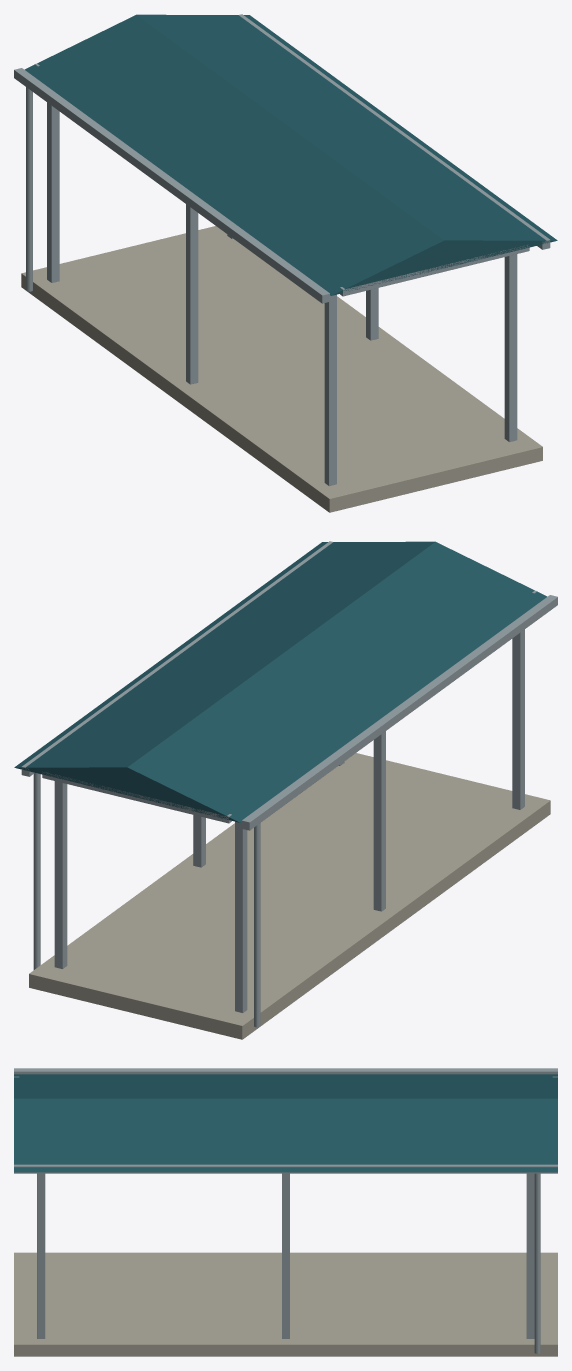
Rendered from source-edit.glb.
3 views of the same model, one above another, from view 1: azimuth 30°, elevation 25°; view 2: azimuth 150°, elevation 25°; view 3: azimuth 270°, elevation 25° (orthographic). The views are drawn at different scales.
Parts seen in each view (by area): view 1: Continuous_Roof, Walkway_Slab, Gutter, Structural_Post.003, Structural_Post, Structural_Post.002, Structural_Post.001, Downpipe, Gutter.001, End_Connector, Structural_Post.004; view 2: Continuous_Roof, Walkway_Slab, Gutter, Structural_Post.005, Structural_Post.002, Structural_Post, Structural_Post.001, Downpipe.001, Downpipe, Gutter.001, End_Connector.001, Structural_Post.004; view 3: Walkway_Slab, Continuous_Roof, Gutter, Gutter.001, Structural_Post.003, Structural_Post.005, Structural_Post.004, Downpipe.001.
Part boxes in pixels (x1=…): Continuous_Roof: x1=24, y1=14, x2=557, y2=295; Walkway_Slab: x1=21, y1=226, x2=542, y2=512; Gutter: x1=14, y1=68, x2=329, y2=303; Structural_Post.003: x1=504, y1=254, x2=517, y2=441; Structural_Post: x1=324, y1=294, x2=336, y2=485; Structural_Post.002: x1=47, y1=102, x2=59, y2=282; Structural_Post.001: x1=186, y1=204, x2=198, y2=384; Downpipe: x1=26, y1=87, x2=32, y2=291; Gutter.001: x1=239, y1=14, x2=550, y2=249; End_Connector: x1=340, y1=245, x2=529, y2=296; Structural_Post.004: x1=366, y1=288, x2=378, y2=340; Continuous_Roof: x1=14, y1=541, x2=547, y2=822; Walkway_Slab: x1=29, y1=753, x2=550, y2=1039; Gutter: x1=242, y1=595, x2=557, y2=830; Structural_Post.005: x1=54, y1=781, x2=67, y2=968; Structural_Post.002: x1=235, y1=821, x2=247, y2=1012; Structural_Post: x1=512, y1=629, x2=524, y2=809; Structural_Post.001: x1=373, y1=731, x2=385, y2=911; Downpipe.001: x1=33, y1=773, x2=40, y2=969; Downpipe: x1=254, y1=823, x2=260, y2=1027; Gutter.001: x1=21, y1=541, x2=332, y2=776; End_Connector.001: x1=42, y1=772, x2=231, y2=823; Structural_Post.004: x1=193, y1=815, x2=205, y2=867; Walkway_Slab: x1=14, y1=1252, x2=557, y2=1356; Continuous_Roof: x1=14, y1=1074, x2=557, y2=1172; Gutter: x1=14, y1=1068, x2=557, y2=1074; Gutter.001: x1=14, y1=1164, x2=557, y2=1173; Structural_Post.003: x1=37, y1=1173, x2=45, y2=1338; Structural_Post.005: x1=526, y1=1173, x2=534, y2=1338; Structural_Post.004: x1=282, y1=1173, x2=289, y2=1338; Downpipe.001: x1=534, y1=1173, x2=540, y2=1353.
Bounding box in the file's own units: 3.53 × 3.5 × 8.
